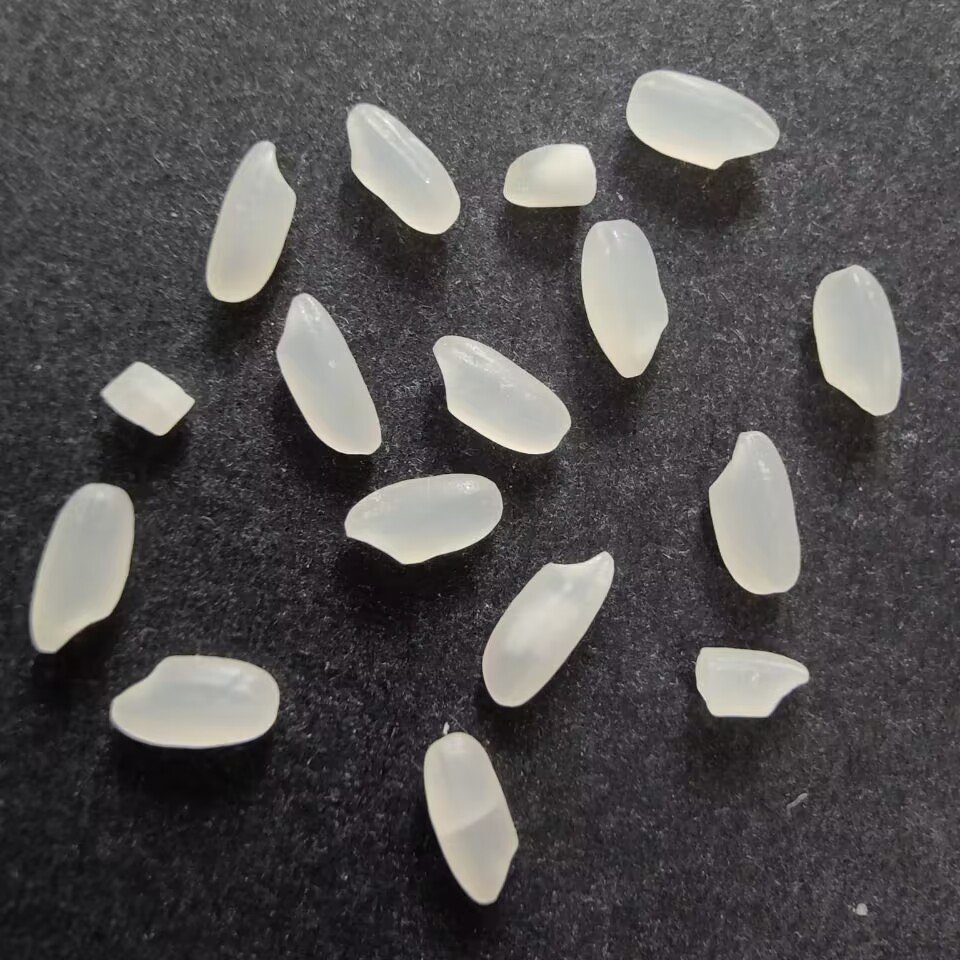broken: (688, 642, 812, 720), (97, 357, 196, 439), (498, 139, 598, 211)
rice: (480, 546, 618, 709), (28, 479, 140, 661), (429, 333, 572, 461), (421, 726, 520, 910), (277, 292, 386, 456), (705, 426, 807, 598), (339, 101, 466, 239), (104, 651, 284, 748), (339, 468, 509, 570), (624, 66, 783, 172), (199, 134, 298, 304), (576, 215, 673, 381), (808, 262, 905, 422)
